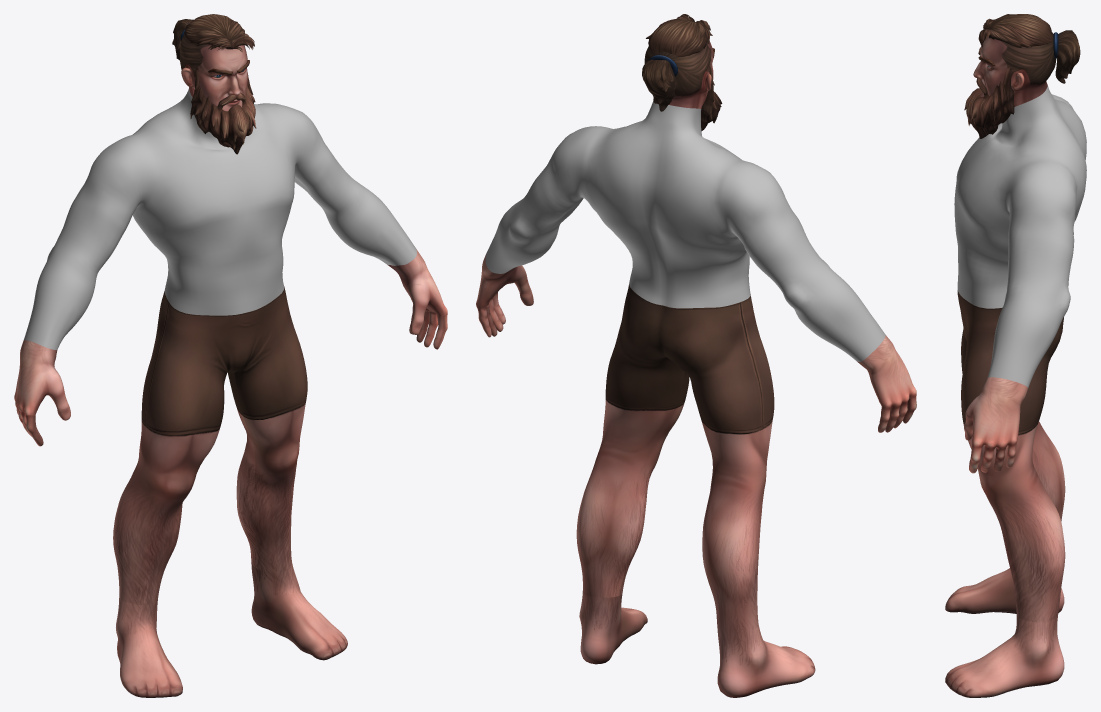
Rendered from WebTest_03.gltf.
The picture shows the model from 3 angles, left to right: view 1: azimuth 30°, elevation 25°; view 2: azimuth 150°, elevation 25°; view 3: azimuth 270°, elevation 25°; orthographic projection. The views are drawn at different scales.
Visible parts, largest first — view 1: XXX, sm_humanlegs, sm_humanfeets, sm_humanhand, sm_humanhead, sm_humanbeard_01, sm_humanhair_01; view 2: XXX, sm_humanlegs, sm_humanfeets, sm_humanhand, sm_humanhair_01, sm_humanhead; view 3: XXX, sm_humanlegs, sm_humanfeets, sm_humanhand, sm_humanhead, sm_humanhair_01, sm_humanbeard_01.
Boxes of the visible parts, x1,y1,x2,y2 form: XXX: [24, 89, 416, 349]; sm_humanlegs: [113, 286, 307, 604]; sm_humanfeets: [116, 562, 347, 697]; sm_humanhand: [14, 249, 447, 446]; sm_humanhead: [180, 34, 247, 111]; sm_humanbeard_01: [190, 68, 256, 154]; sm_humanhair_01: [172, 14, 254, 60]; XXX: [485, 100, 885, 361]; sm_humanlegs: [576, 285, 774, 630]; sm_humanfeets: [579, 591, 815, 697]; sm_humanhand: [476, 253, 916, 432]; sm_humanhair_01: [642, 14, 712, 111]; sm_humanhead: [644, 41, 713, 108]; XXX: [954, 85, 1086, 388]; sm_humanlegs: [957, 290, 1065, 622]; sm_humanfeets: [945, 568, 1064, 697]; sm_humanhand: [964, 377, 1027, 473]; sm_humanhead: [973, 32, 1056, 106]; sm_humanhair_01: [978, 14, 1080, 83]; sm_humanbeard_01: [964, 67, 1014, 138].
Bounding box in the file's own units: 1.28 × 1.84 × 0.3737.
Materials: 8 (7 with a texture image).
